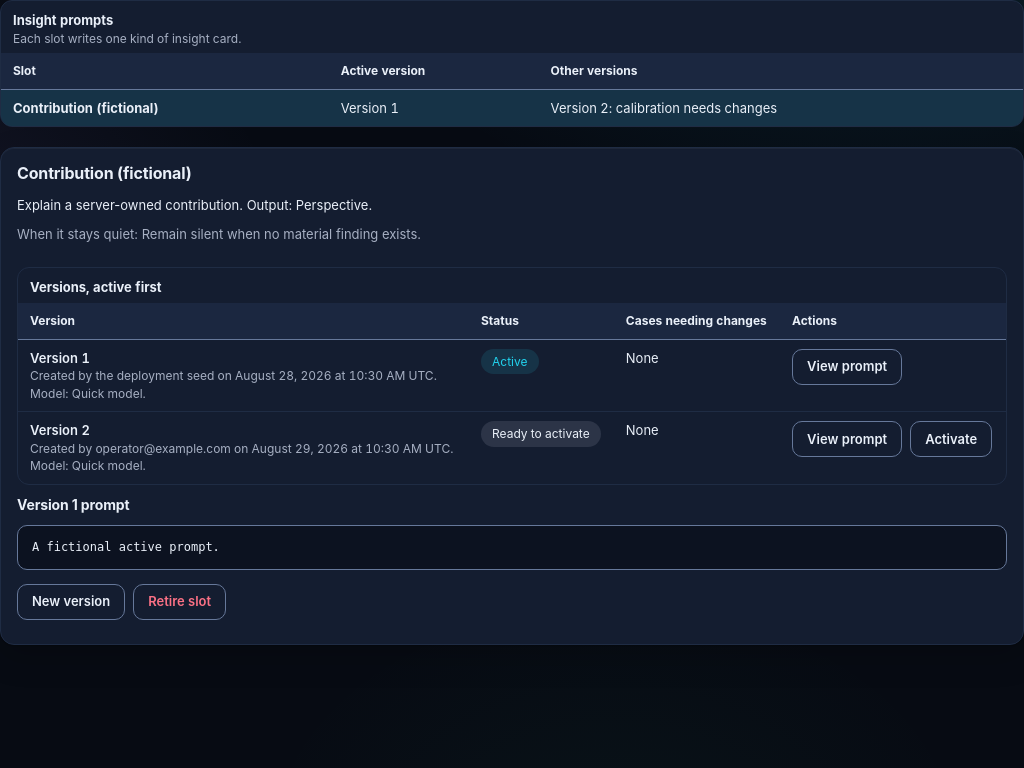
Test: View prompt shows that version in the wrapped viewer
Expected: the heading "Contribution (fictional)" is shown, 17,162 -> 192,186
Expected: the text named "Version 1 prompt text" is shown, 17,525 -> 1007,570
Click the button with aria-label "View prompt: version 2".
click(847, 439)  # box 792,421 -> 902,457
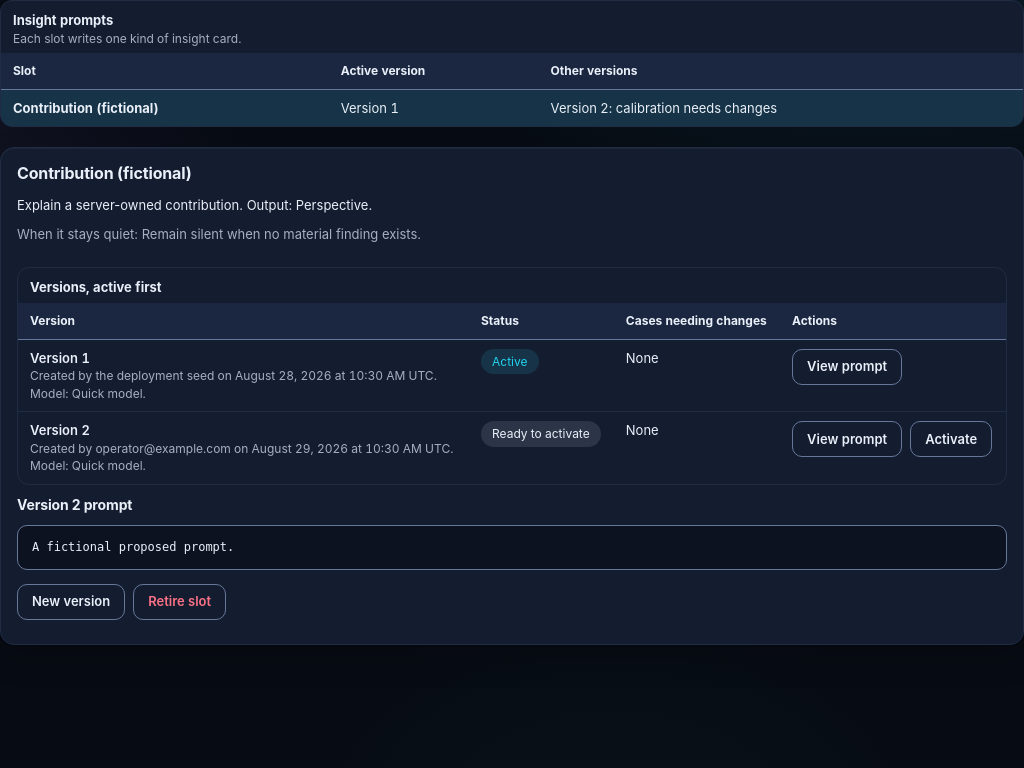
Expected: the text named "Version 2 prompt text" reads "A fictional proposed prompt.", 32,540 -> 234,554
